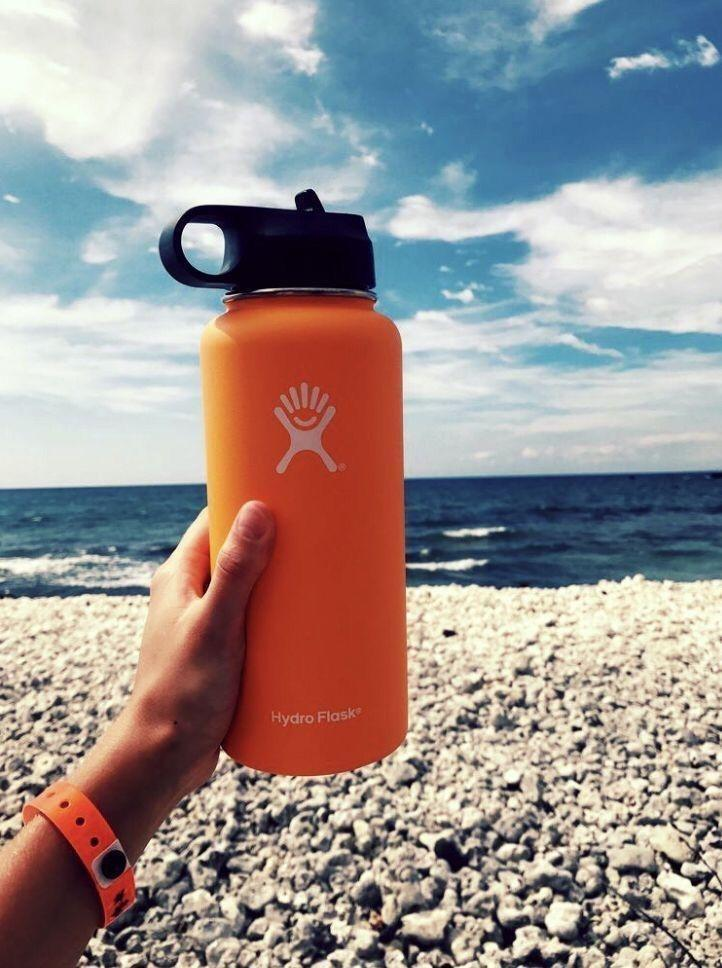gym bottle: (160, 186, 410, 779)
